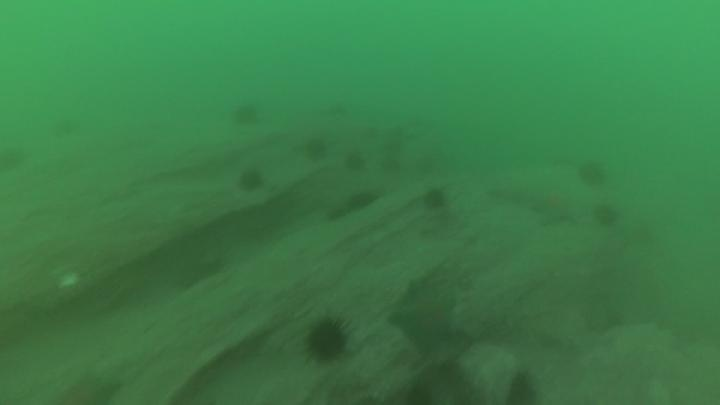echinus: (303, 315, 352, 365), (329, 187, 381, 221), (504, 370, 540, 405), (229, 100, 264, 131), (575, 158, 609, 189), (235, 166, 267, 196), (0, 142, 28, 175), (300, 135, 331, 164), (591, 201, 621, 230), (419, 185, 450, 213), (342, 149, 369, 174), (378, 153, 404, 176)
starfish: (389, 279, 463, 355), (52, 368, 124, 405), (528, 187, 579, 228)
